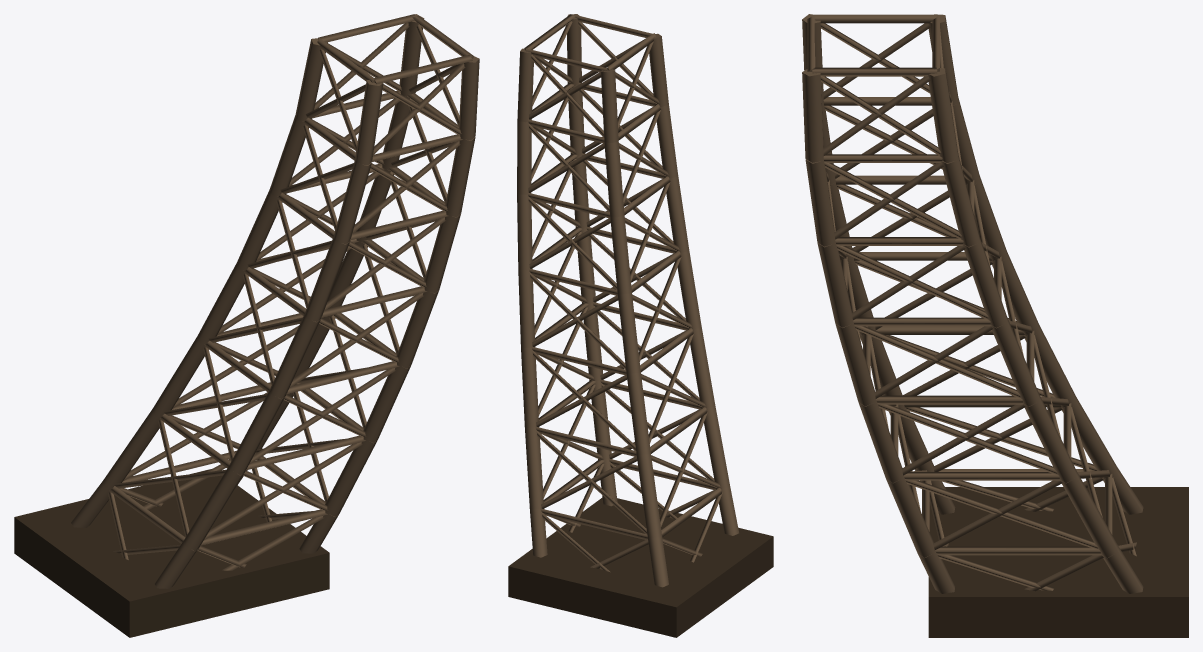
Rendered from EIFFEL_LEG.glb.
3 renders of one model, left to right at view 1: azimuth 30°, elevation 25°; view 2: azimuth 150°, elevation 25°; view 3: azimuth 270°, elevation 25°, orthographic. The views are drawn at different scales.
Parts seen in each view (by area): view 1: paint_0, concreteProp_1; view 2: paint_0, concreteProp_1; view 3: paint_0, concreteProp_1.
Part boxes in pixels (left/top/right/bottom): paint_0: left=71, top=14, right=479, bottom=588; concreteProp_1: left=14, top=469, right=329, bottom=637; paint_0: left=517, top=14, right=738, bottom=587; concreteProp_1: left=508, top=497, right=773, bottom=637; paint_0: left=802, top=14, right=1143, bottom=593; concreteProp_1: left=928, top=487, right=1188, bottom=637.
Size of the model in its own units: 6.83 by 12.18 by 6.84.
